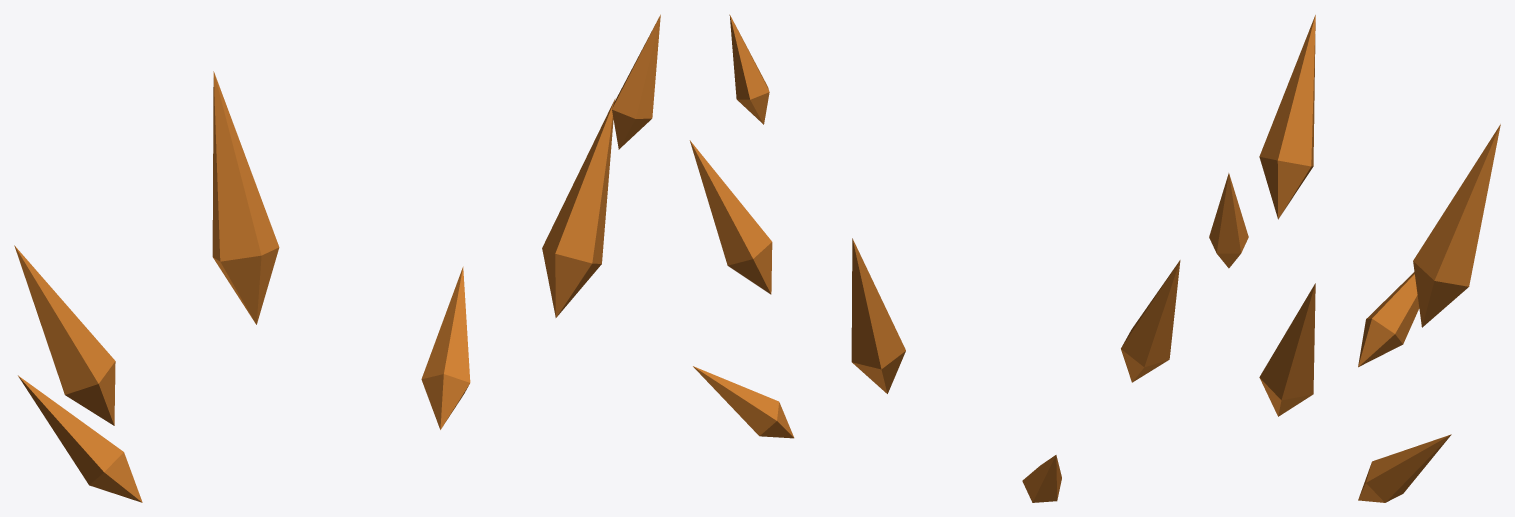
The model's file is weaver_shards.fbx.
3 views of the same model, side by side, from view 1: azimuth 30°, elevation 25°; view 2: azimuth 150°, elevation 25°; view 3: azimuth 270°, elevation 25° (orthographic). The views are drawn at different scales.
Parts seen in each view (by area): view 1: weaver_shards; view 2: weaver_shards; view 3: weaver_shards.
Part boxes in pixels (x1,y1,x2,y2): weaver_shards: [14, 14, 660, 502]; weaver_shards: [689, 14, 1180, 502]; weaver_shards: [1209, 15, 1500, 502].
Size of the model in its own units: 2.13 by 1.46 by 0.9769.
